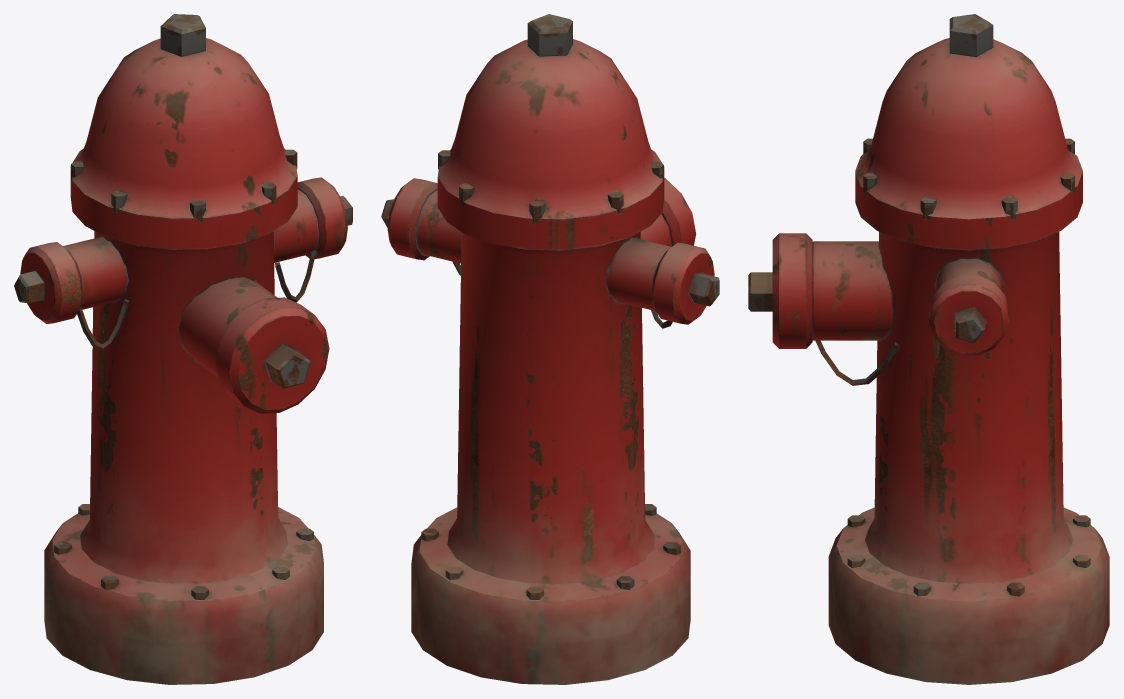
File: hydrant.glb
3 renders of one model, left to right at view 1: azimuth 30°, elevation 25°; view 2: azimuth 150°, elevation 25°; view 3: azimuth 270°, elevation 25°, orthographic.
Parts seen in each view (by area): view 1: hydrant; view 2: hydrant; view 3: hydrant.
Part boxes in pixels (x1,y1,x2,y2): hydrant: (14,14,352,684); hydrant: (381,14,719,684); hydrant: (748,14,1109,684).
Size of the model in its own units: 0.47 by 0.83 by 0.45.
Materials: 1 (1 with a texture image).
